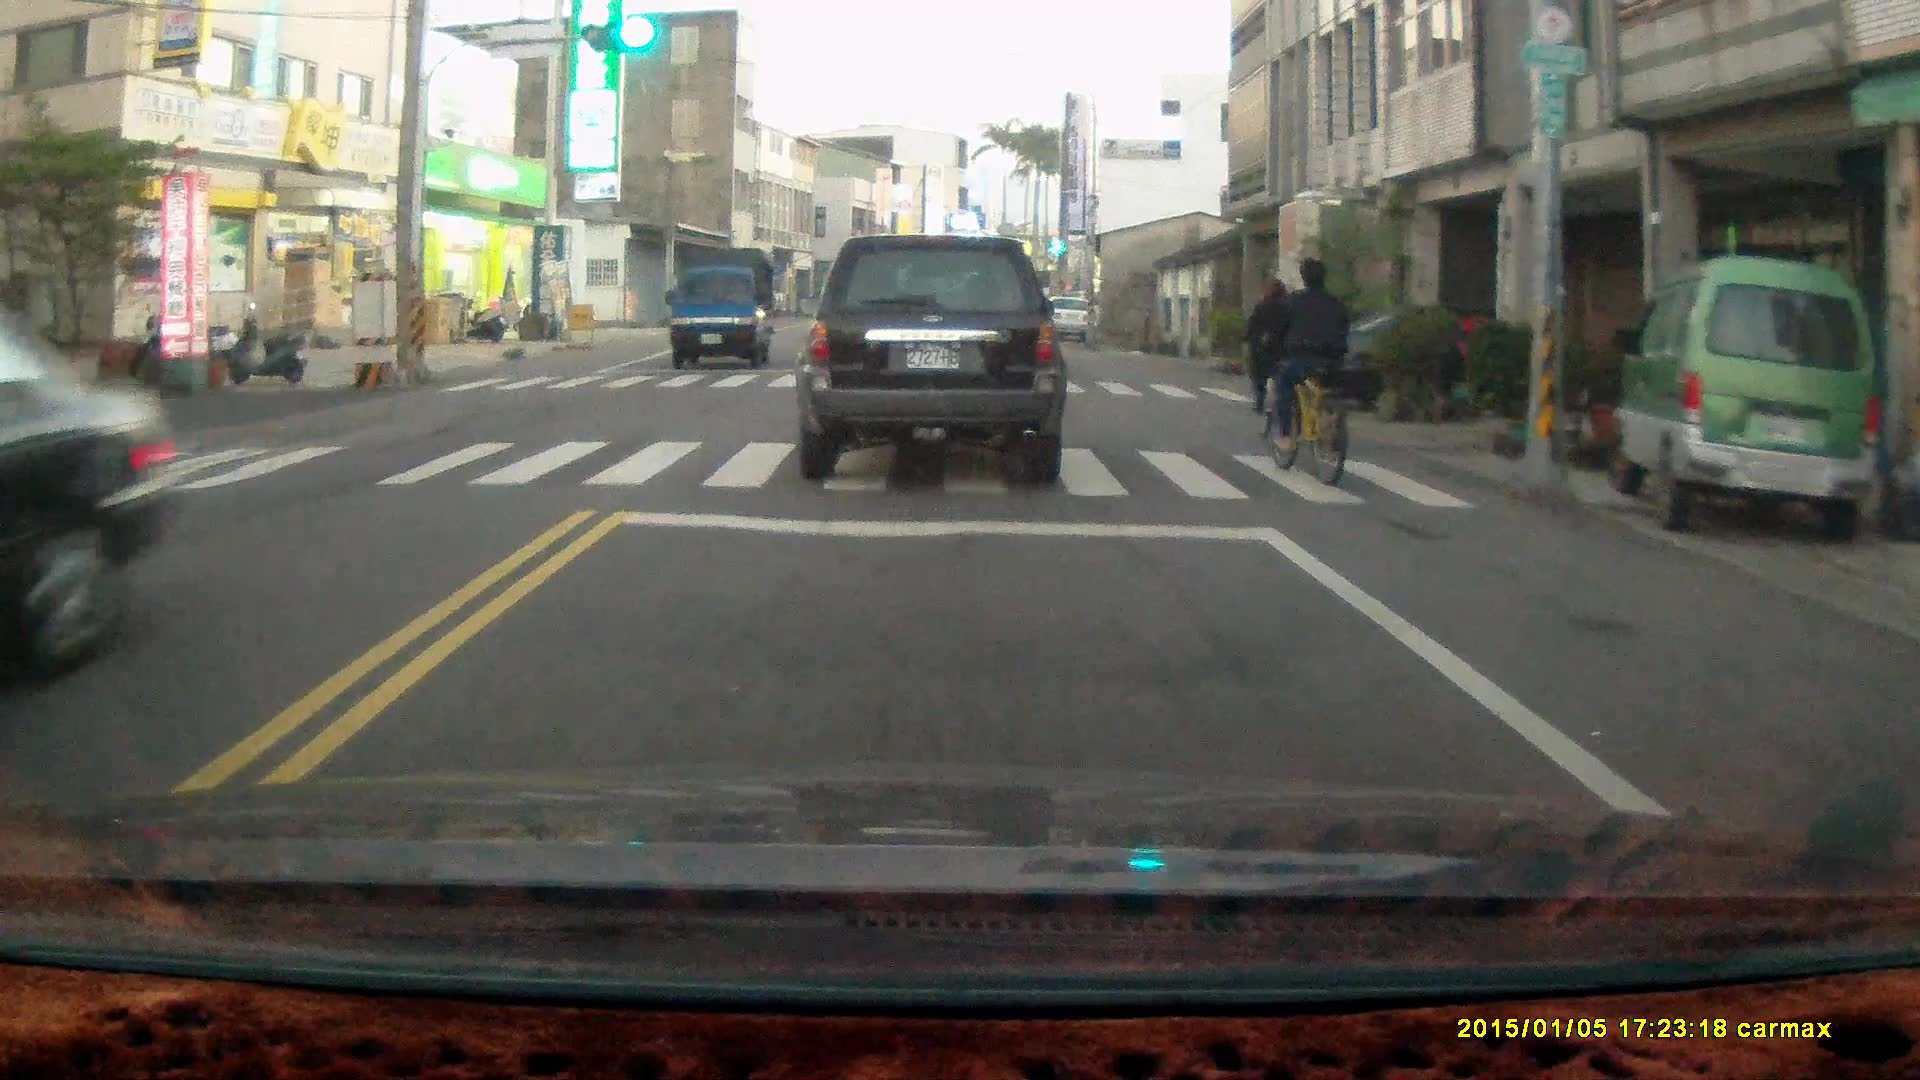rider: (1266, 253, 1358, 482), (1244, 273, 1306, 442)
vehicle: (1616, 255, 1891, 547), (1, 300, 191, 694), (797, 233, 1068, 482), (1330, 306, 1609, 423), (668, 250, 779, 370)
